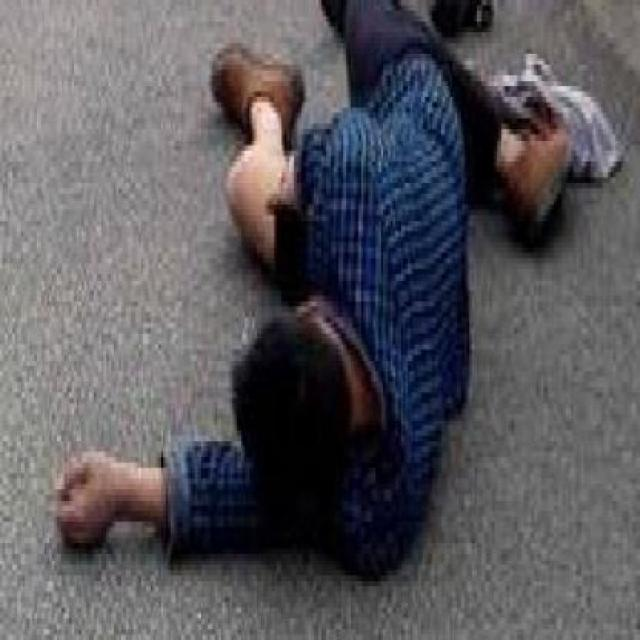fall: (32, 0, 598, 592)
